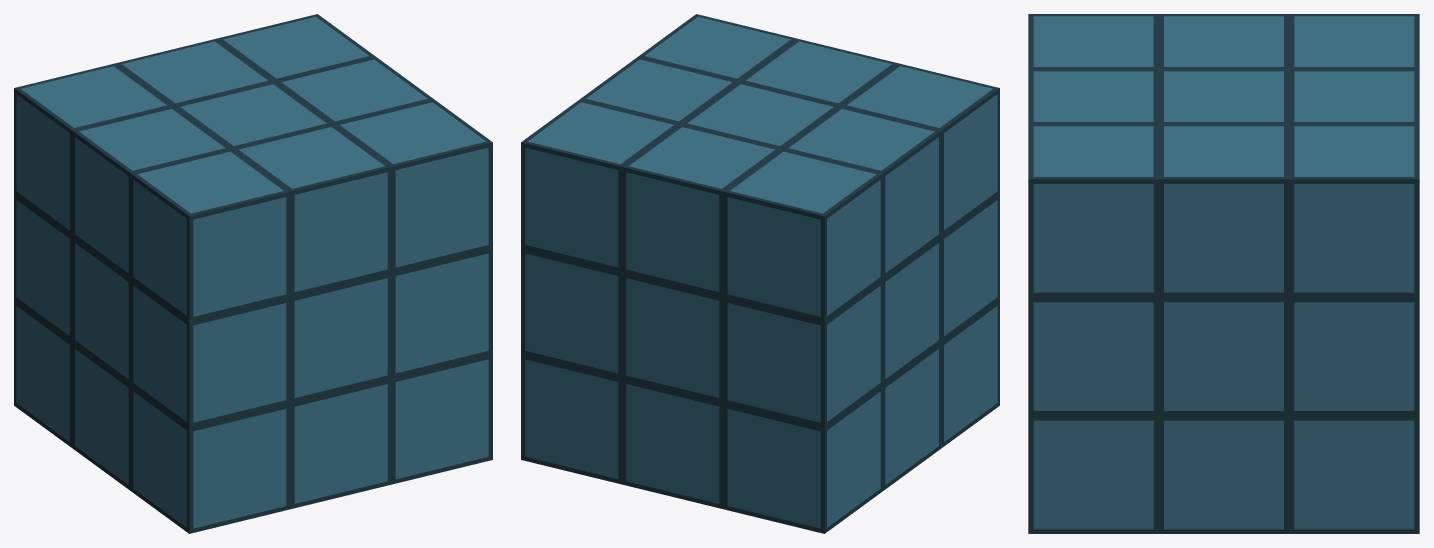
The model's file is cubo monocromo.fbx.
The picture shows the model from 3 angles, left to right: view 1: azimuth 30°, elevation 25°; view 2: azimuth 150°, elevation 25°; view 3: azimuth 270°, elevation 25°; orthographic projection. The views are drawn at different scales.
Parts seen in each view (by area): view 1: Cube.007; view 2: Cube.007; view 3: Cube.007.
Boxes of the visible parts, <box> form: Cube.007: <box>14,14,492,533</box>; Cube.007: <box>521,14,999,533</box>; Cube.007: <box>1028,14,1419,533</box>.
Bounding box in the file's own units: 48.62 × 48.62 × 48.62.
